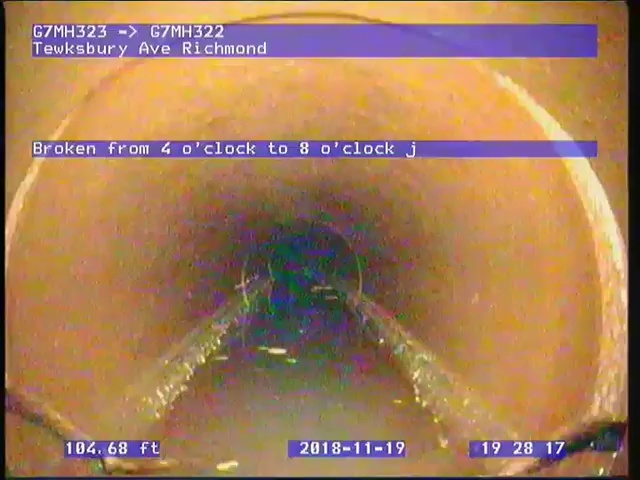crack: (4, 387, 145, 476), (511, 420, 627, 474)
